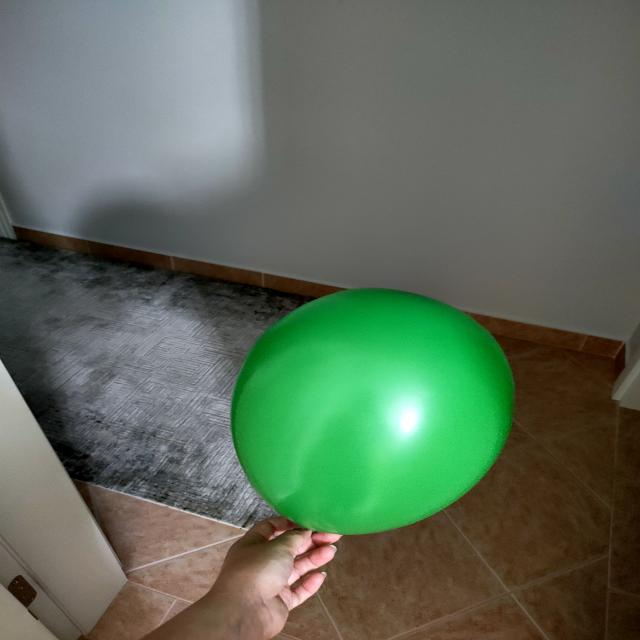green: (234, 287, 514, 536)
